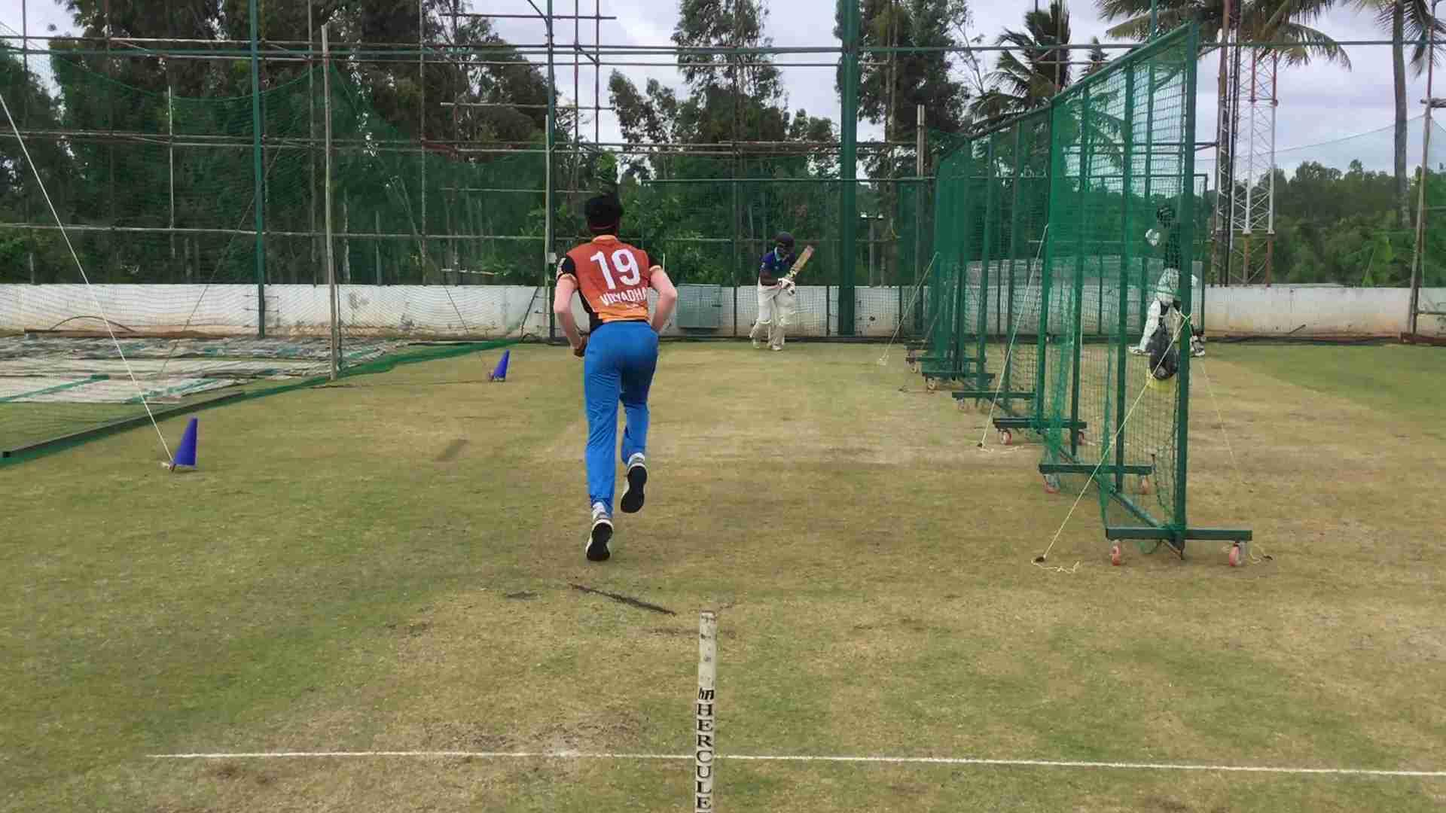batsman: (740, 230, 802, 356)
